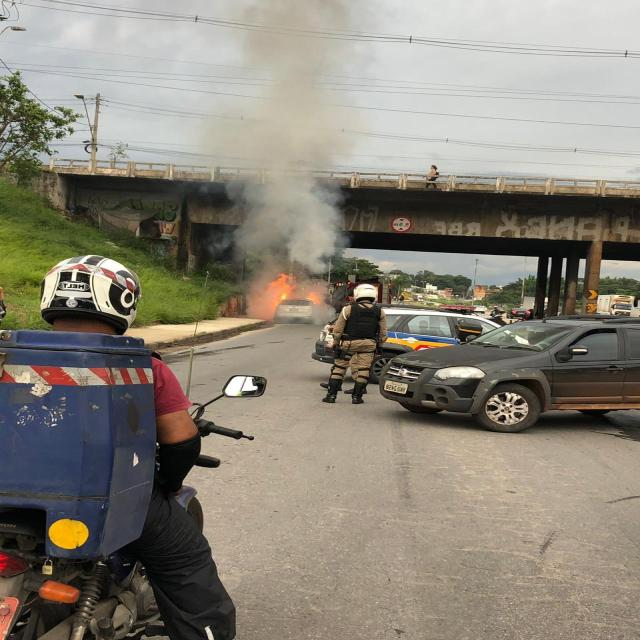smoke: (220, 6, 360, 266)
